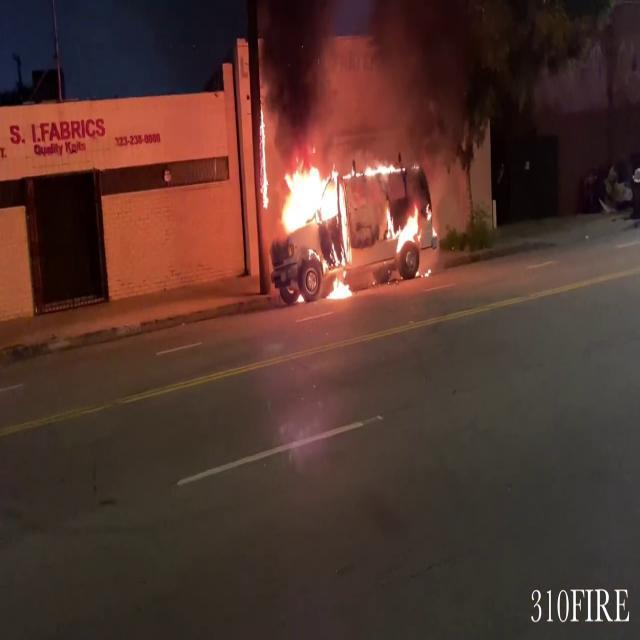Fire: (272, 149, 427, 296), (272, 152, 383, 298)
